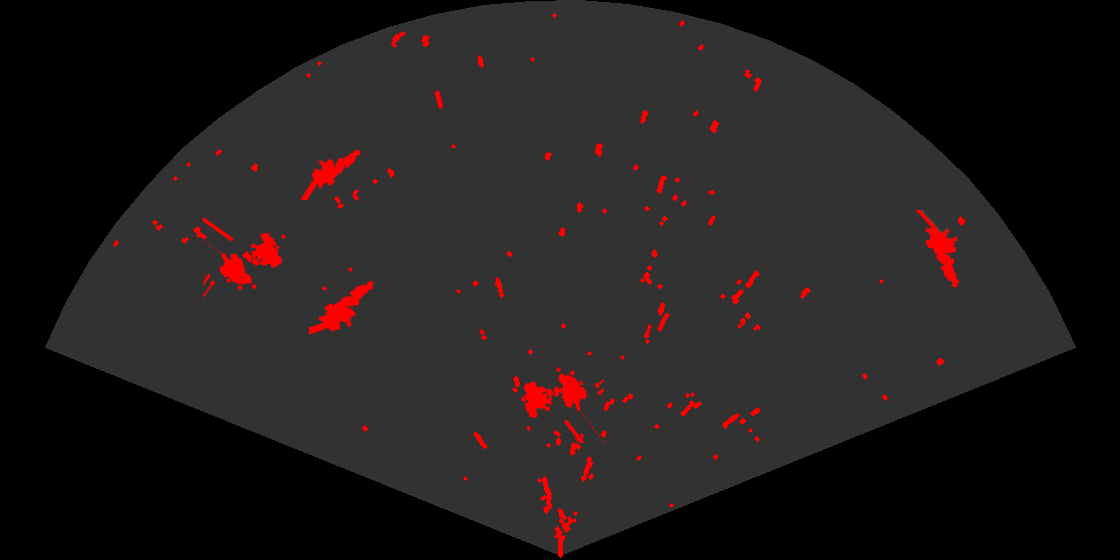cage: (203, 215, 284, 299), (522, 366, 604, 443)
frogman: (309, 279, 375, 336), (914, 210, 961, 289), (300, 148, 363, 200)
